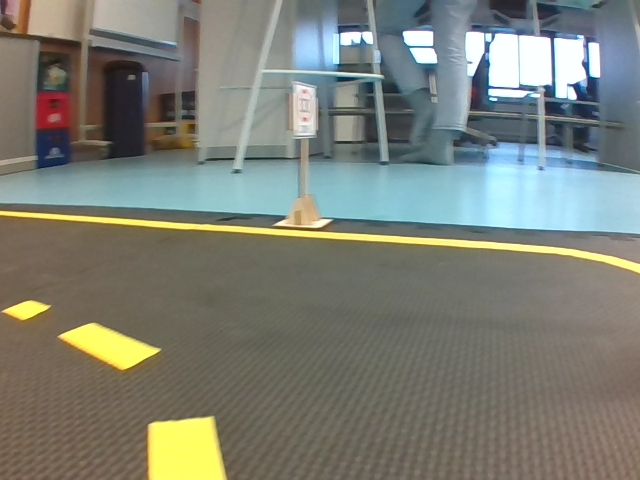no30: (424, 40, 497, 147)
